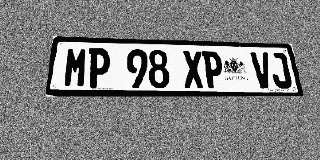8: (148, 50, 170, 88)
9: (127, 49, 148, 88)
J: (268, 53, 293, 88)
M: (63, 47, 88, 88)
P: (87, 48, 110, 88), (202, 51, 225, 88)
V: (250, 52, 274, 88)
X: (182, 50, 204, 88)
